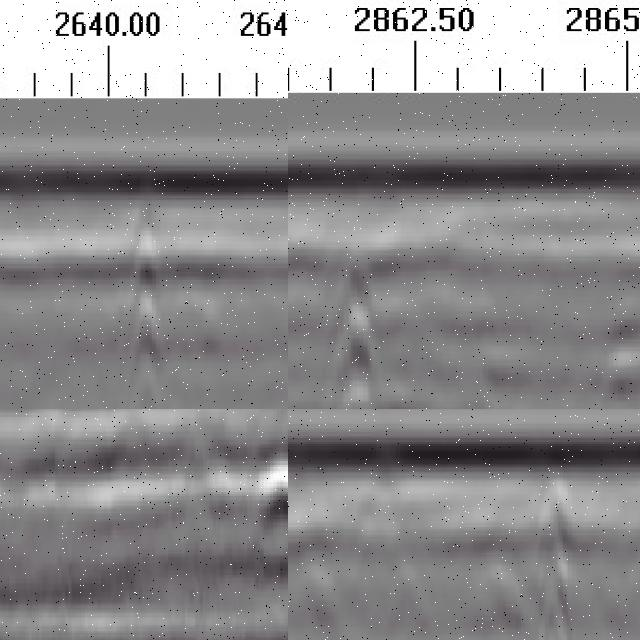crack: (532, 482, 582, 640), (334, 259, 381, 410), (130, 177, 160, 410)
